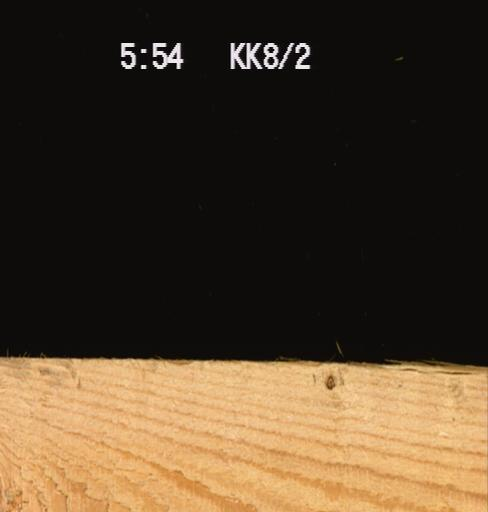dry_knot: (321, 373, 338, 390)
split: (335, 360, 487, 370)
